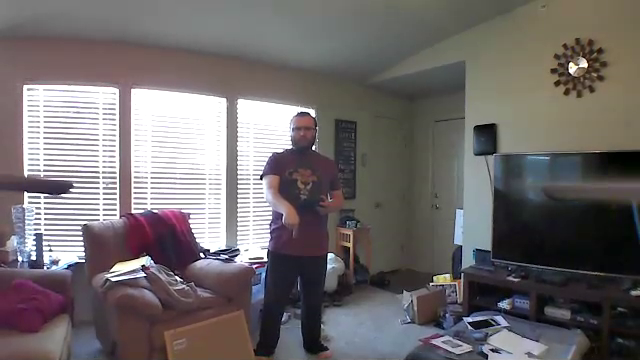down: (279, 200, 300, 244)
